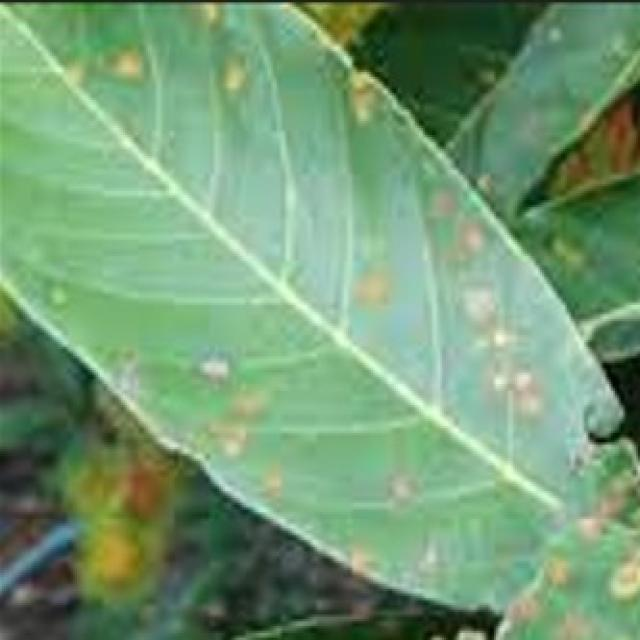Algal Leaf Spot: (458, 285, 541, 410), (189, 352, 266, 456), (574, 502, 640, 600), (514, 563, 598, 640), (428, 180, 489, 279), (107, 36, 156, 97), (349, 54, 386, 130), (354, 252, 394, 314), (258, 464, 299, 510), (224, 48, 253, 106), (386, 461, 409, 514), (349, 538, 371, 578)
